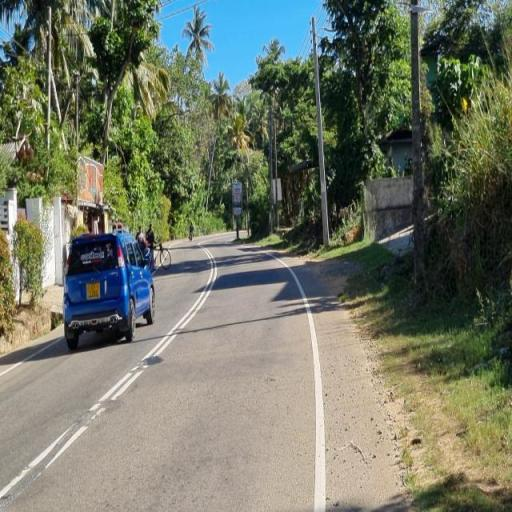double_white_line: (92, 246, 214, 421)
